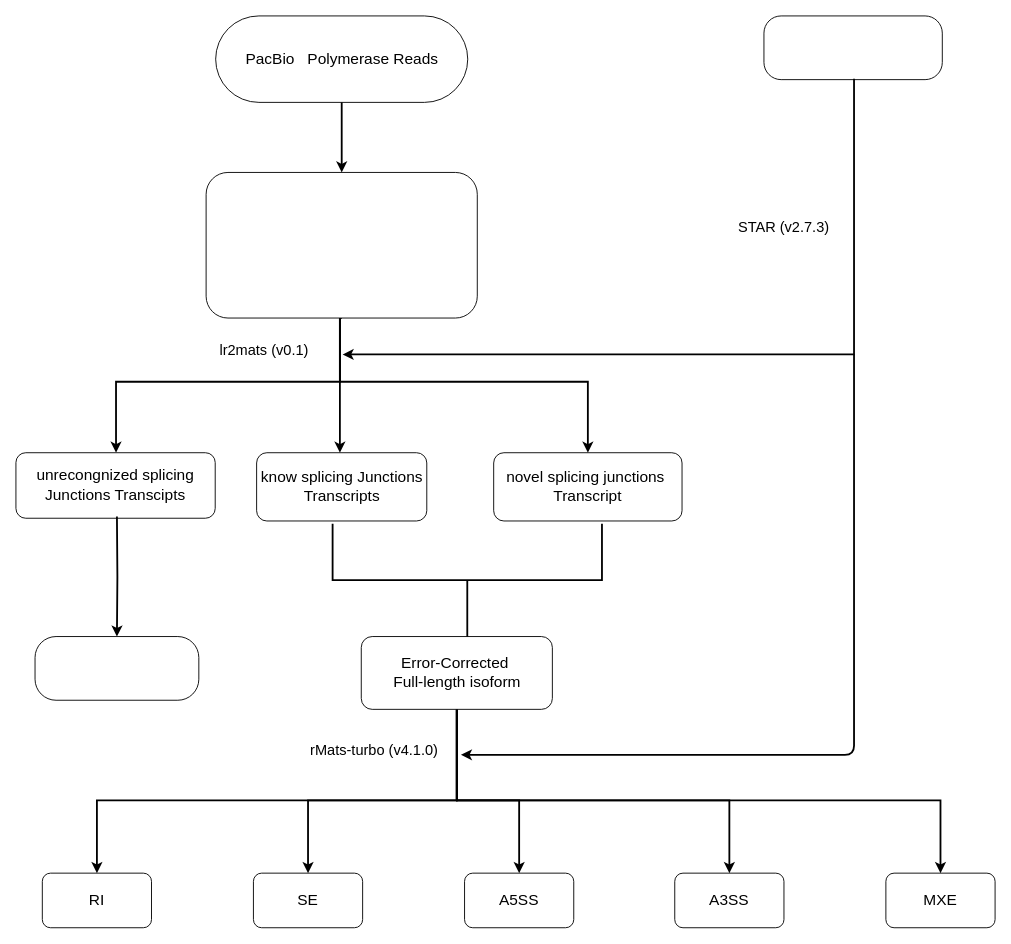
This 1011x944 diagram has some shape labels left out. The centre of each missing label's shape, as x and y in pixels:
"DisCard Transcript" goes at point 116,668.
"Full-length Non-Chimeric (FLNC) Circular Consesus Sequences(CCSs)" goes at point 341,245.
"RNA-seq reads" goes at point 852,47.
